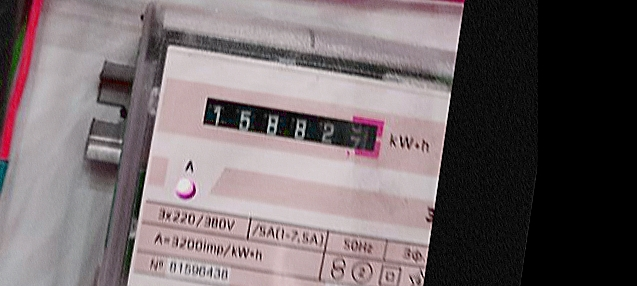1: (209, 101, 226, 125)
2: (318, 119, 337, 145)
5: (236, 105, 253, 132)
7: (348, 130, 362, 149)
8: (291, 115, 308, 141), (264, 111, 280, 136)
screen: (191, 85, 394, 168)
